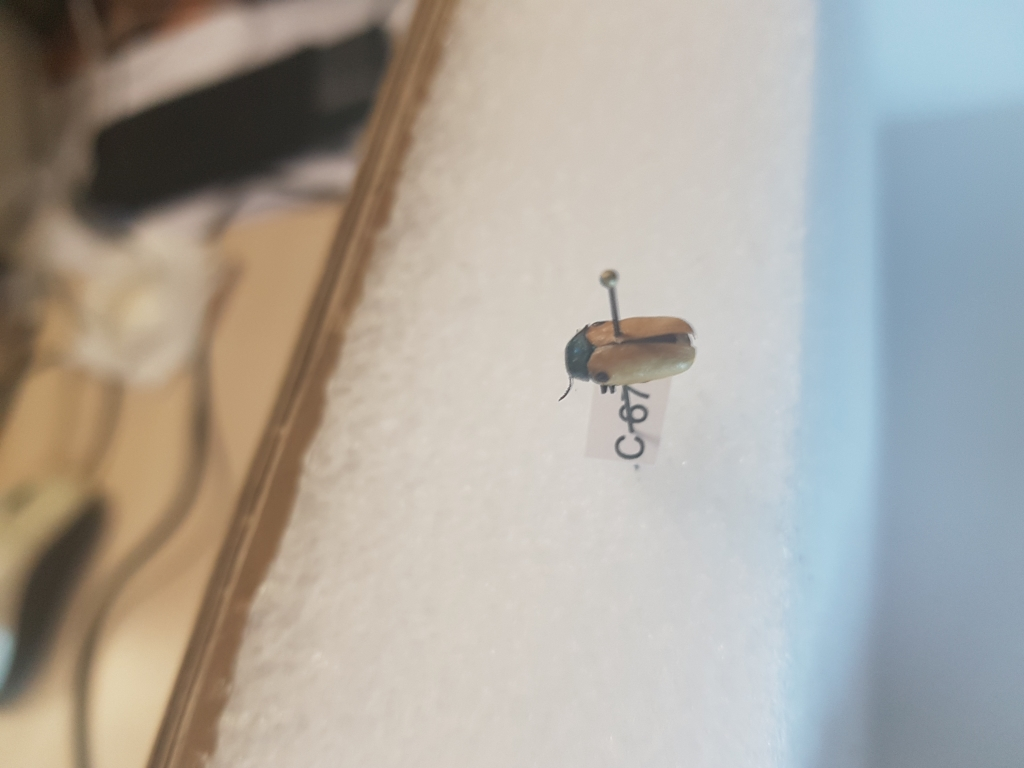Labidostomis_longimana: (552, 309, 702, 401)
